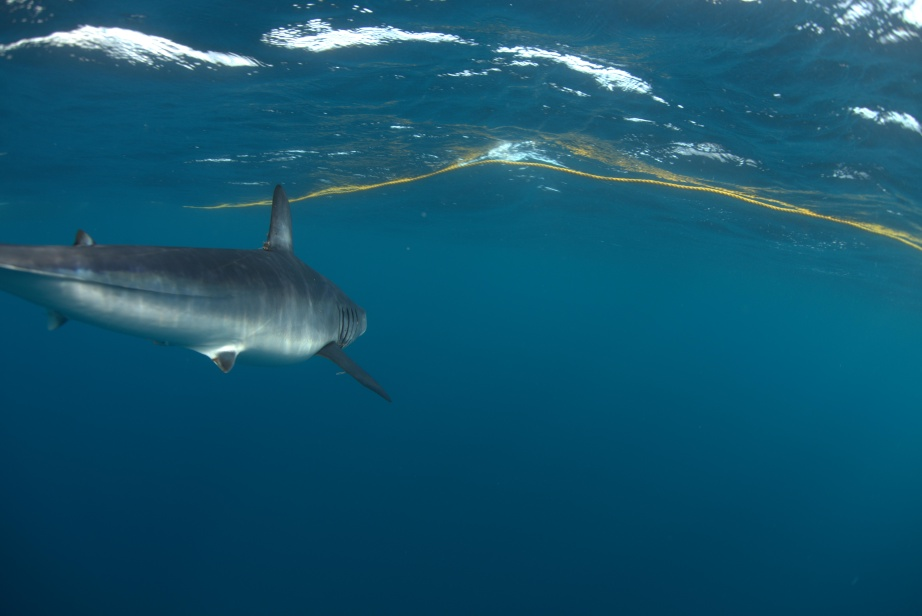Mako: (1, 182, 407, 416)
